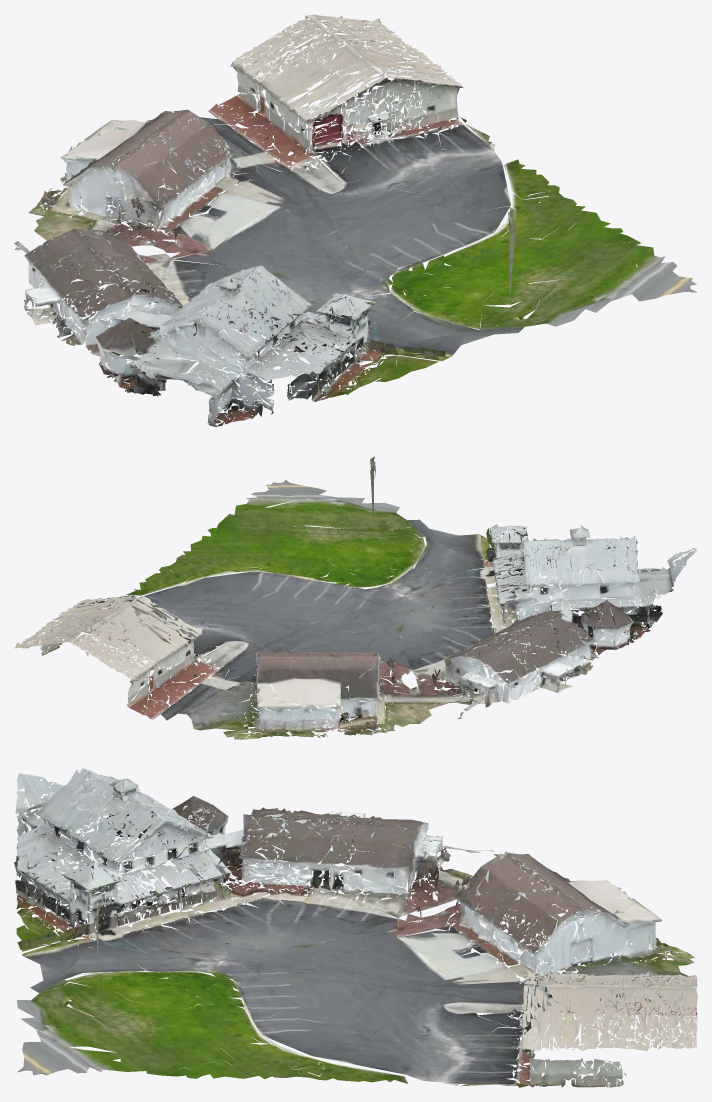
The model's file is building_vet_hospital.glb.
3 renders of one model, top to bottom at view 1: azimuth 30°, elevation 25°; view 2: azimuth 150°, elevation 25°; view 3: azimuth 270°, elevation 25°, orthographic. The views are drawn at different scales.
Visible parts, largest first — view 1: building_vet_hospital; view 2: building_vet_hospital; view 3: building_vet_hospital.
Boxes of the visible parts, left/top/right/bottom form: building_vet_hospital: left=14, top=14, right=697, bottom=427; building_vet_hospital: left=14, top=456, right=697, bottom=739; building_vet_hospital: left=14, top=768, right=697, bottom=1087.
Bounding box in the file's own units: 13.41 × 3.45 × 14.56.
Materials: 1 (1 with a texture image).
